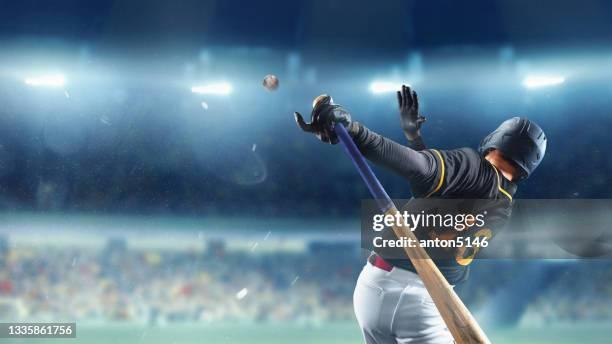baseball: (262, 75, 280, 92)
